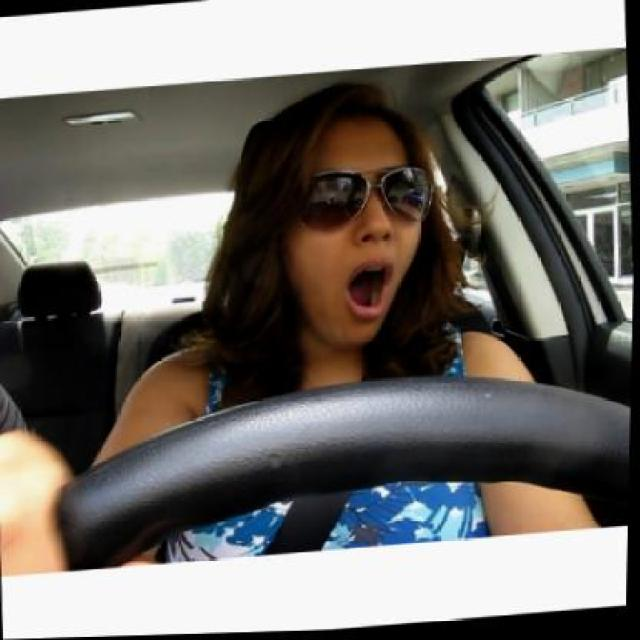inattentif: (252, 75, 431, 356)
